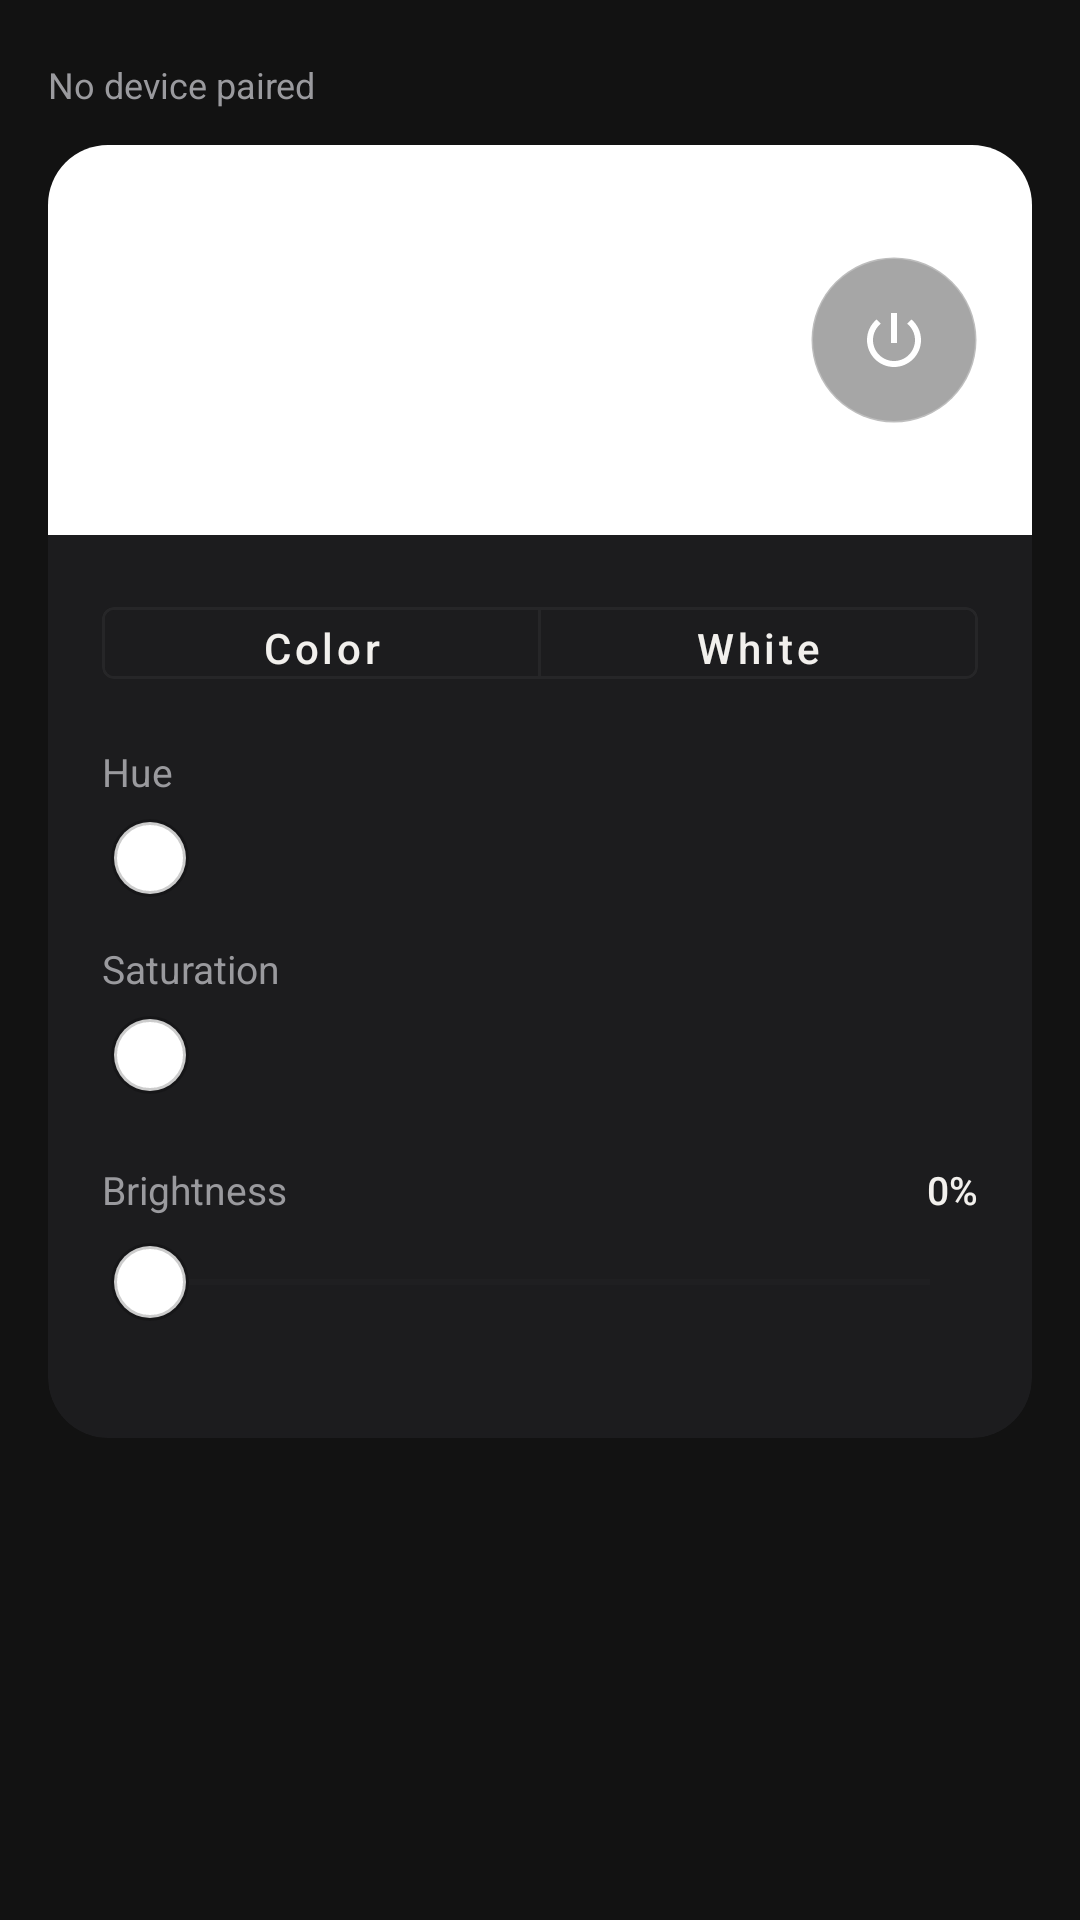

Screen size 1080x1920. Icon name, then its center in pixels as point (x, y):
Power: point (894, 340)
